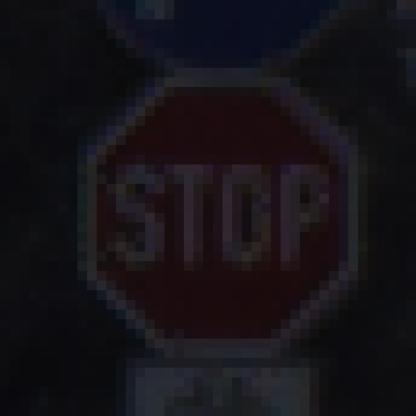stop: (87, 72, 362, 358)
